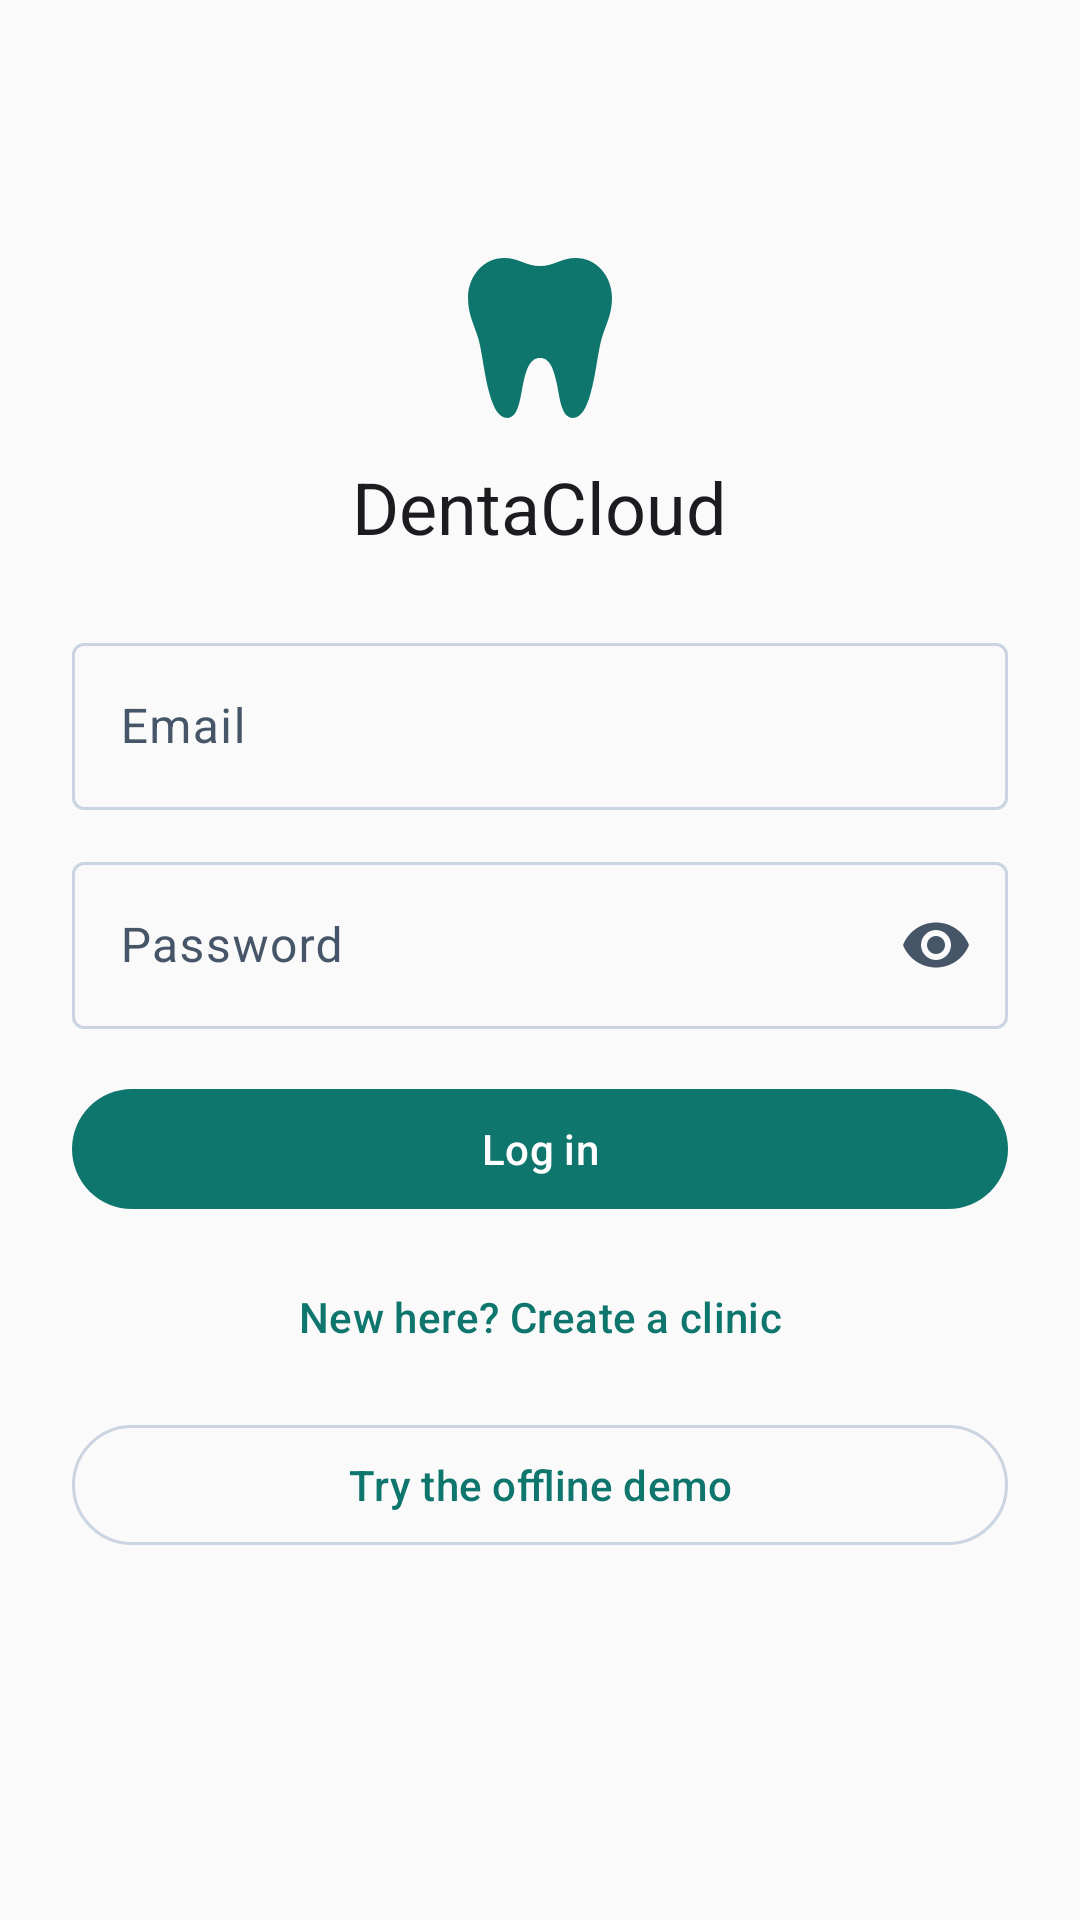

Where to tap for icons on this 1080 x 1920 app screen, as [x,y]:
tooth: [540,338]
